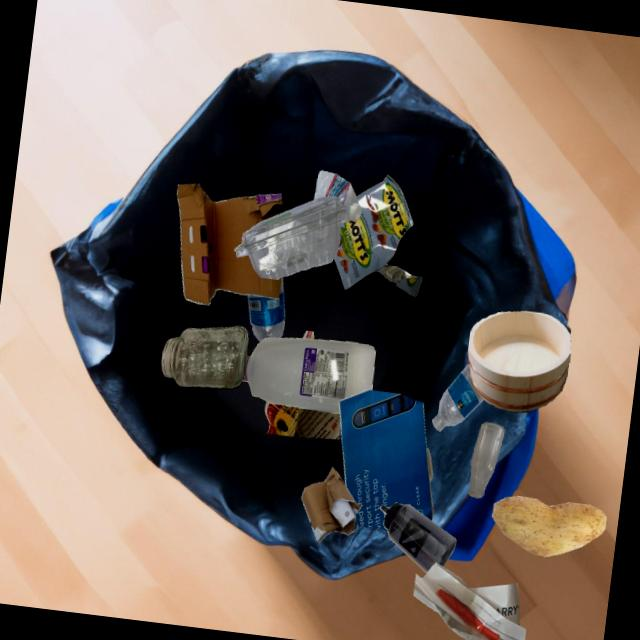biowaste: (491, 496, 606, 556)
cardboard: (176, 183, 282, 305), (301, 467, 361, 542)
combustible waste: (467, 311, 570, 412)
glass: (160, 325, 248, 389), (468, 422, 504, 498), (426, 447, 432, 481)
paper: (338, 389, 433, 530), (413, 562, 526, 640), (264, 401, 341, 439)
plastic: (242, 337, 375, 413), (234, 196, 346, 279), (379, 502, 455, 573), (432, 362, 483, 431), (314, 170, 361, 222), (247, 276, 284, 342)
trash: (333, 174, 422, 297)
